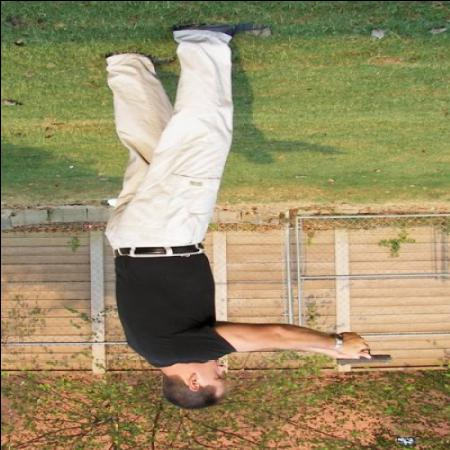Pistol: (336, 343, 392, 366)
